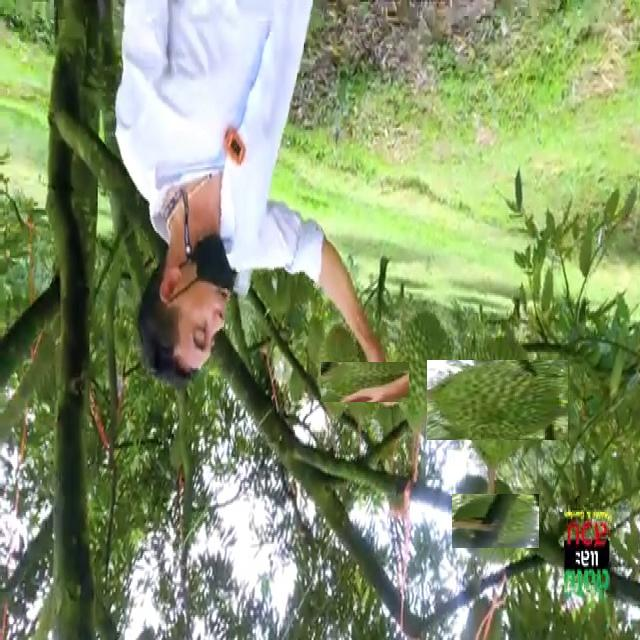durian: (443, 344, 553, 456), (395, 305, 454, 430), (460, 486, 531, 557), (333, 349, 397, 414), (317, 321, 359, 419)
